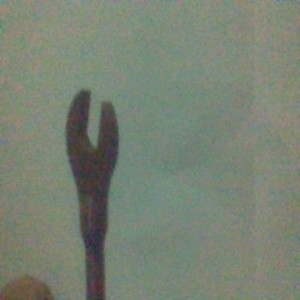spanner: (64, 89, 120, 300)
